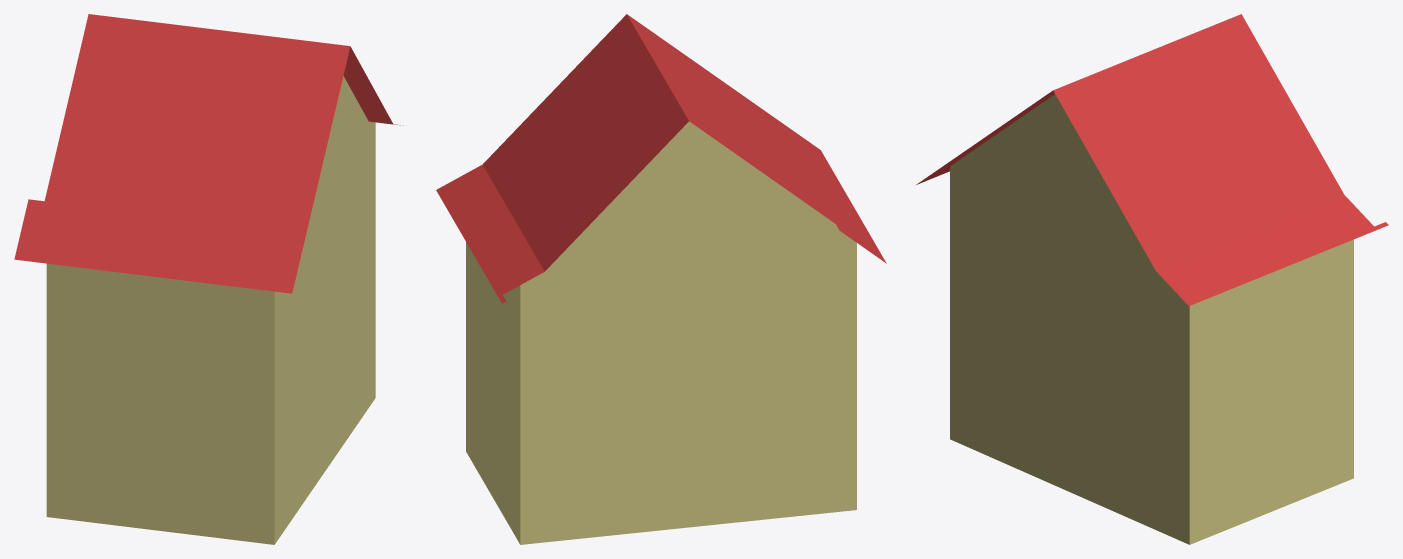
The picture shows the model from 3 angles, left to right: view 1: azimuth 30°, elevation 25°; view 2: azimuth 150°, elevation 25°; view 3: azimuth 270°, elevation 25°; orthographic projection. The views are drawn at different scales.
Bounding box in the file's own units: 14.42 × 14.31 × 13.65.
